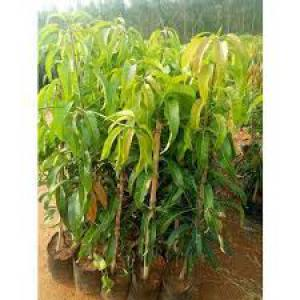Tree: (46, 9, 254, 292)
